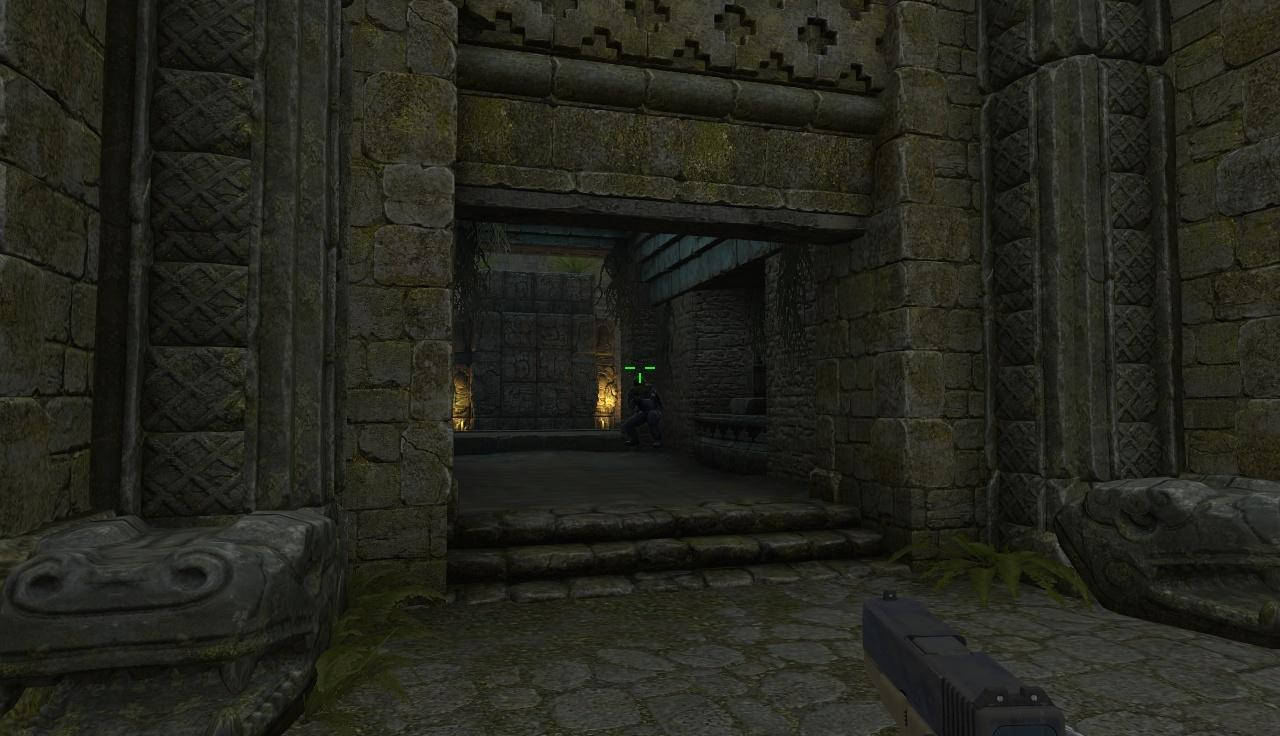ct: (628, 377, 662, 446)
cthead: (633, 378, 647, 394)
pistol: (852, 594, 1088, 736)
